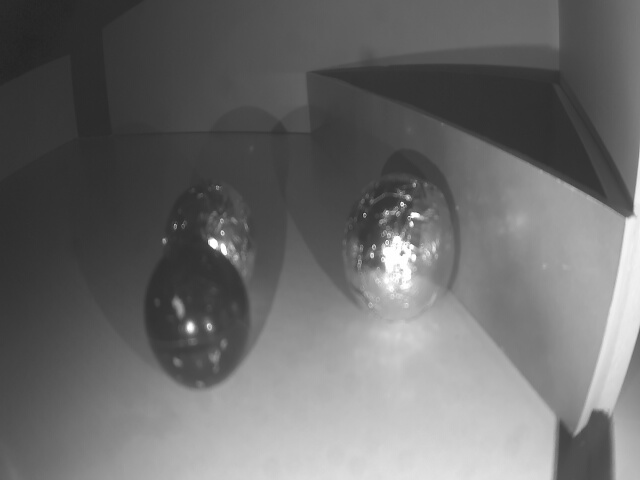Dead: (146, 245, 251, 392)
Green: (306, 71, 630, 430)
Live: (340, 172, 455, 328), (161, 179, 258, 284)
